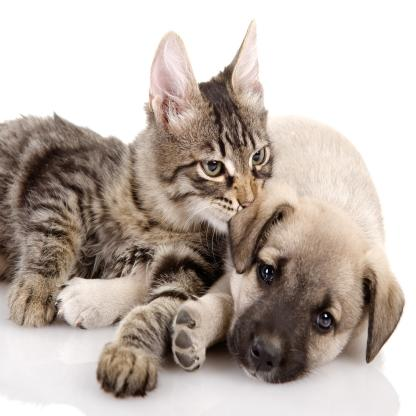cat: (116, 41, 294, 223)
dog: (217, 207, 414, 403)
